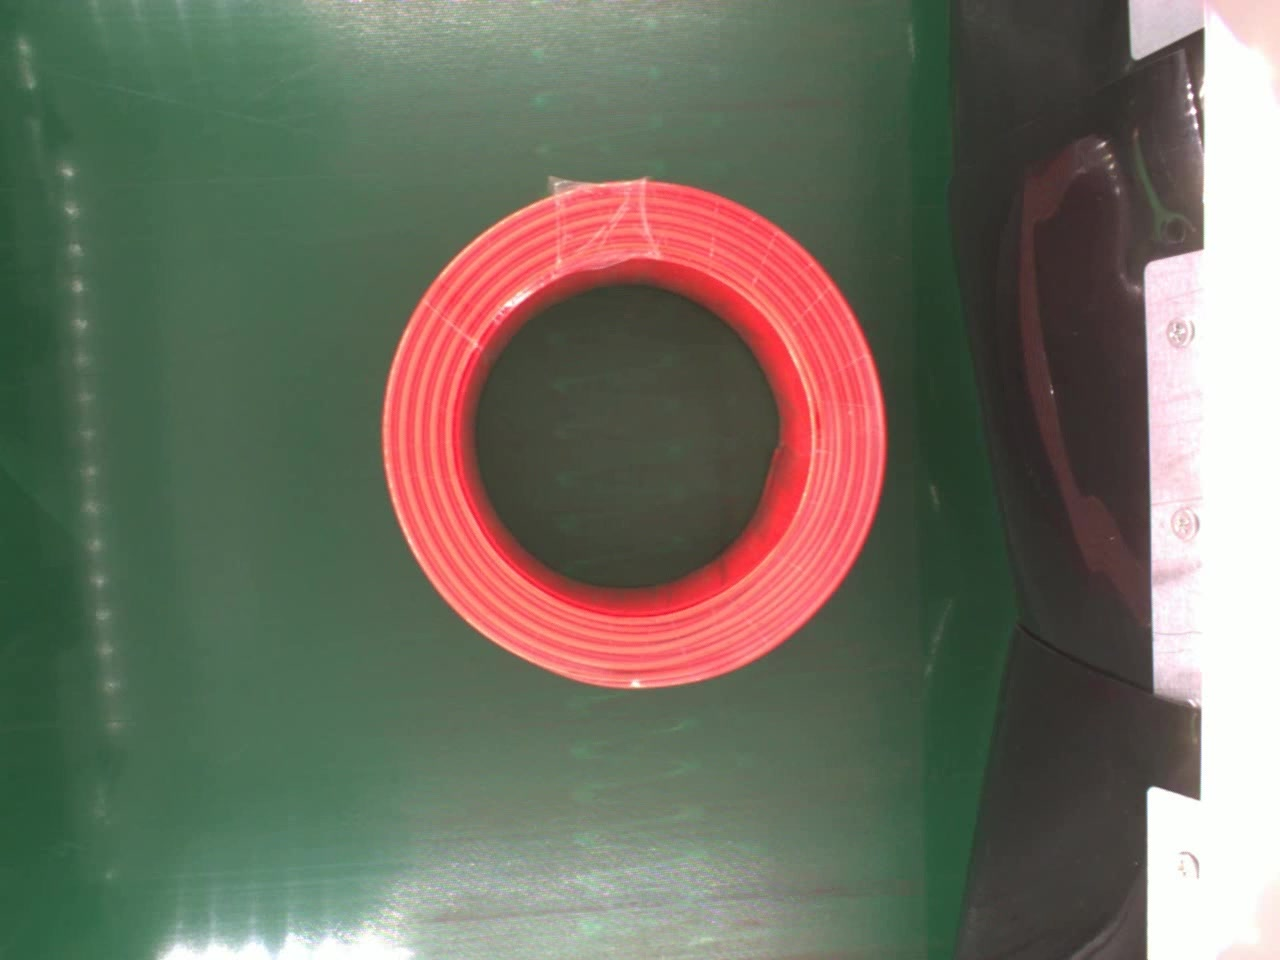red: (378, 177, 895, 700)
